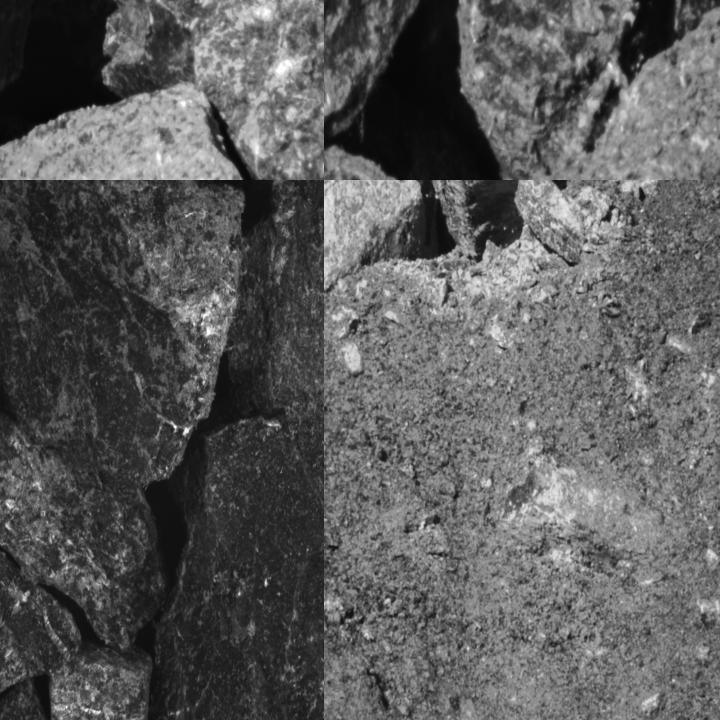stone: (0, 180, 247, 483), (151, 384, 323, 719), (87, 0, 323, 179), (462, 0, 719, 160), (492, 0, 719, 179), (0, 415, 166, 650), (324, 60, 541, 179), (226, 180, 323, 419), (0, 90, 258, 179), (324, 180, 430, 323), (0, 547, 86, 719), (47, 645, 150, 719), (516, 180, 587, 262)
